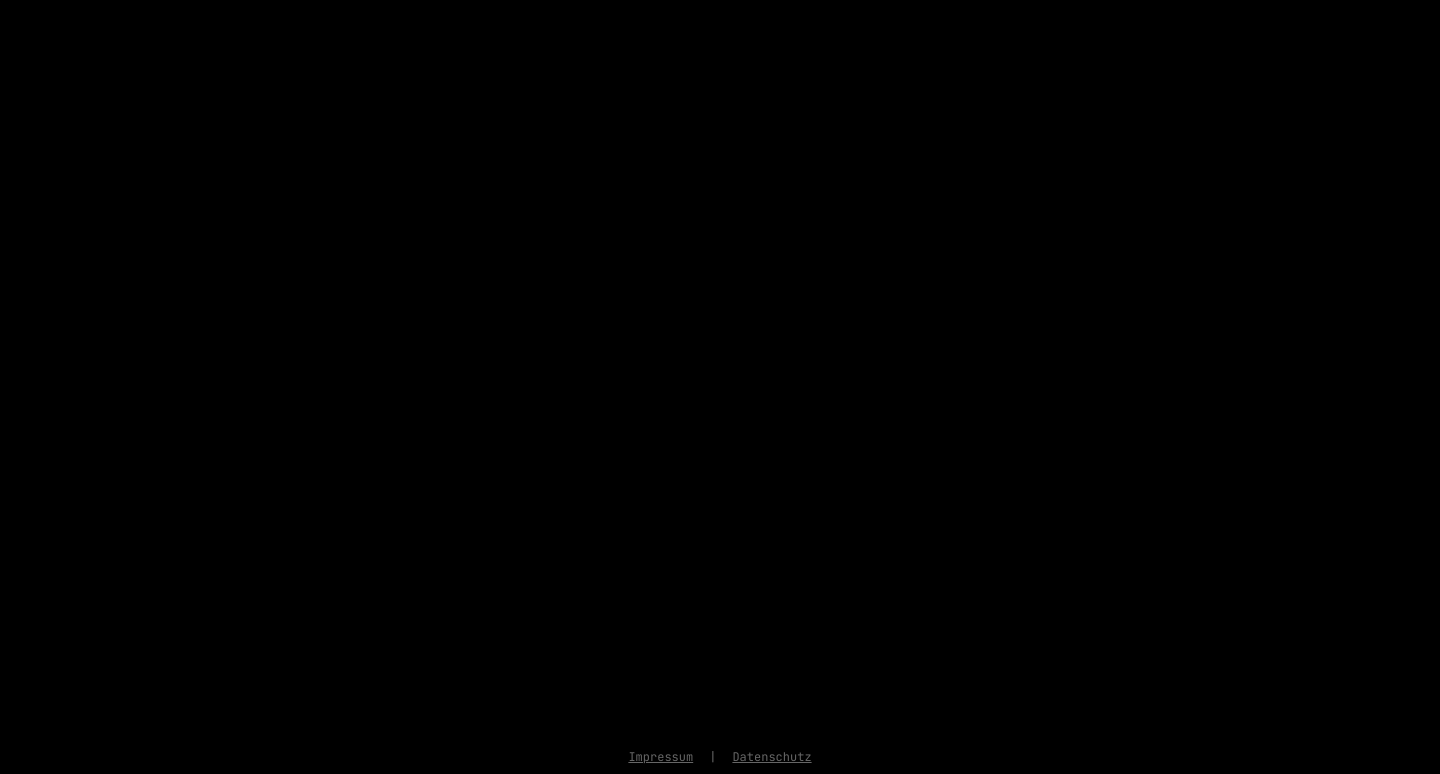
Test: App — central back-navigation wiring › 5. „Weiter spielen" reappears on the menu after leaving a run
Press Enter
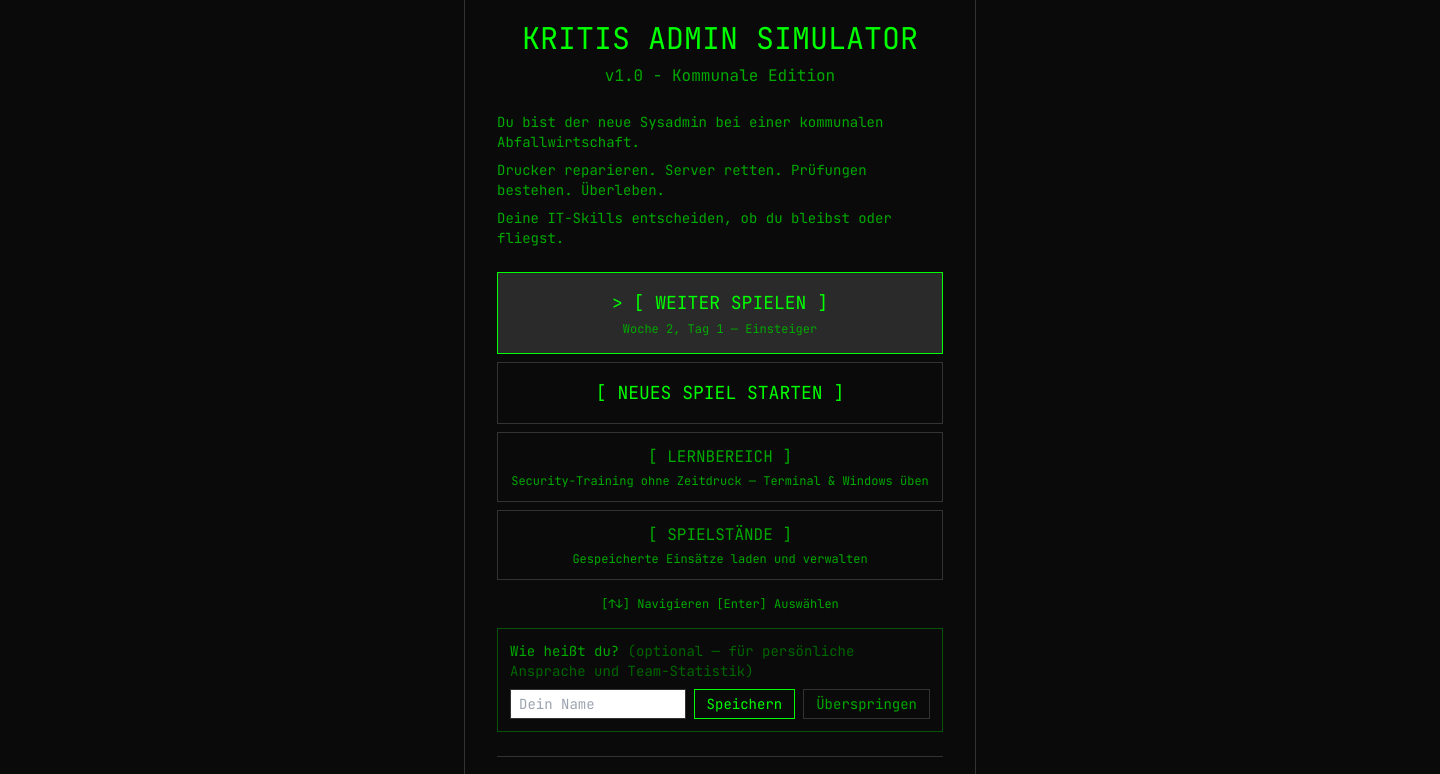
Click the button "> [ WEITER SPIELEN ] Woche 2, Tag 1 — Einsteiger" at (720, 313), box [497,272,943,354]
(page scrolled)
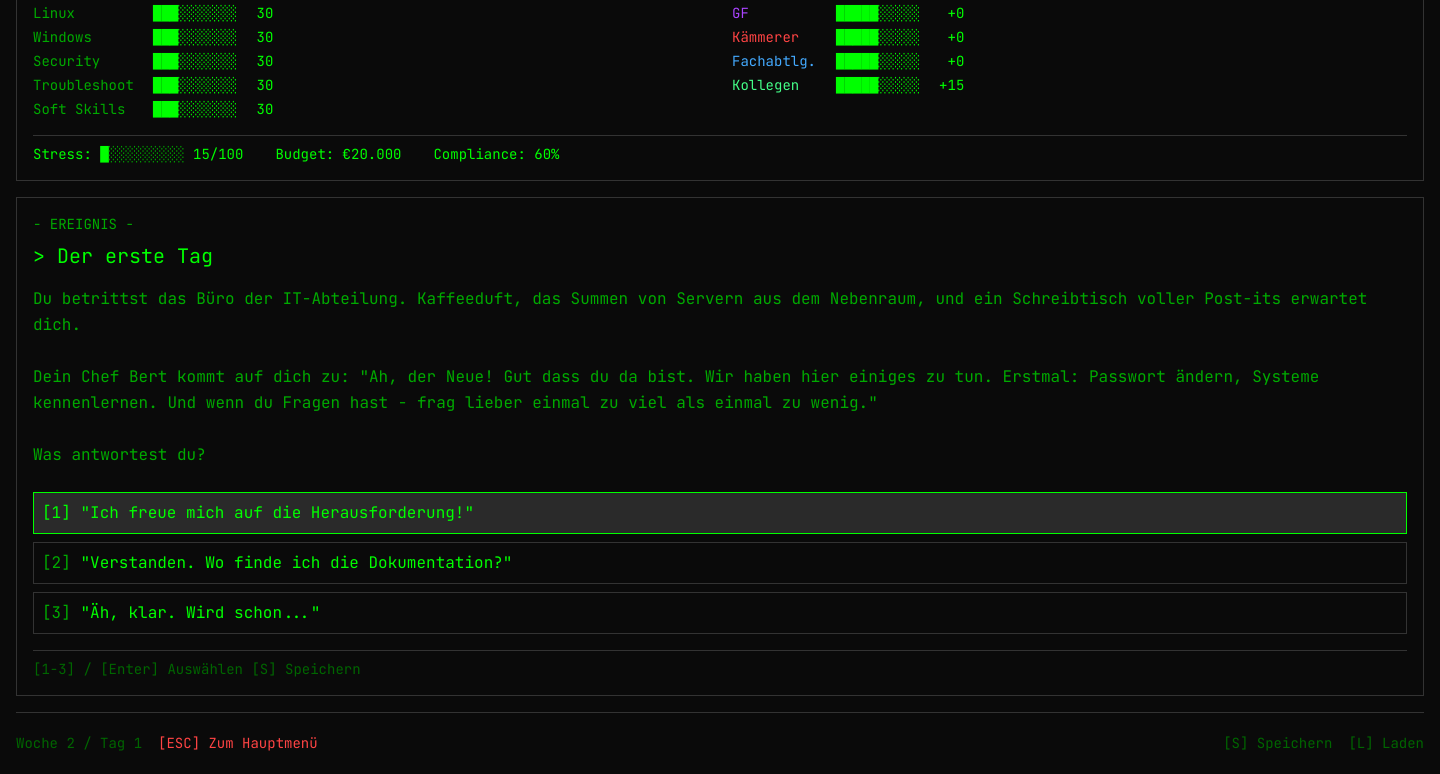
Now the button "[ESC] Zum Hauptmenü" is shown, box [158,721,318,765]
Press Escape
(page scrolled)
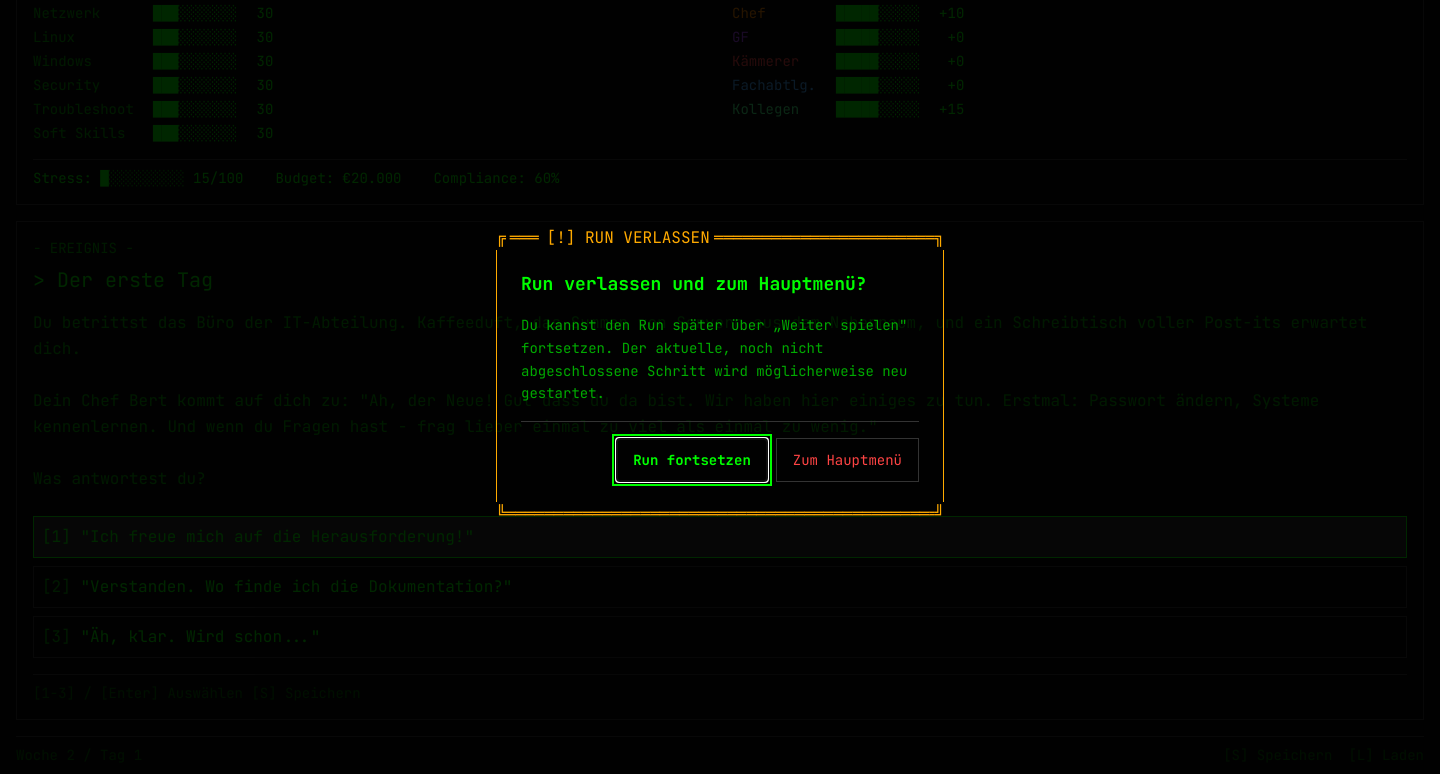
Now the heading "Run verlassen und zum Hauptmenü?" is shown, box [521,270,919,298]
Click the button "Zum Hauptmenü" at (847, 460), box [776,438,919,482]
(page scrolled)
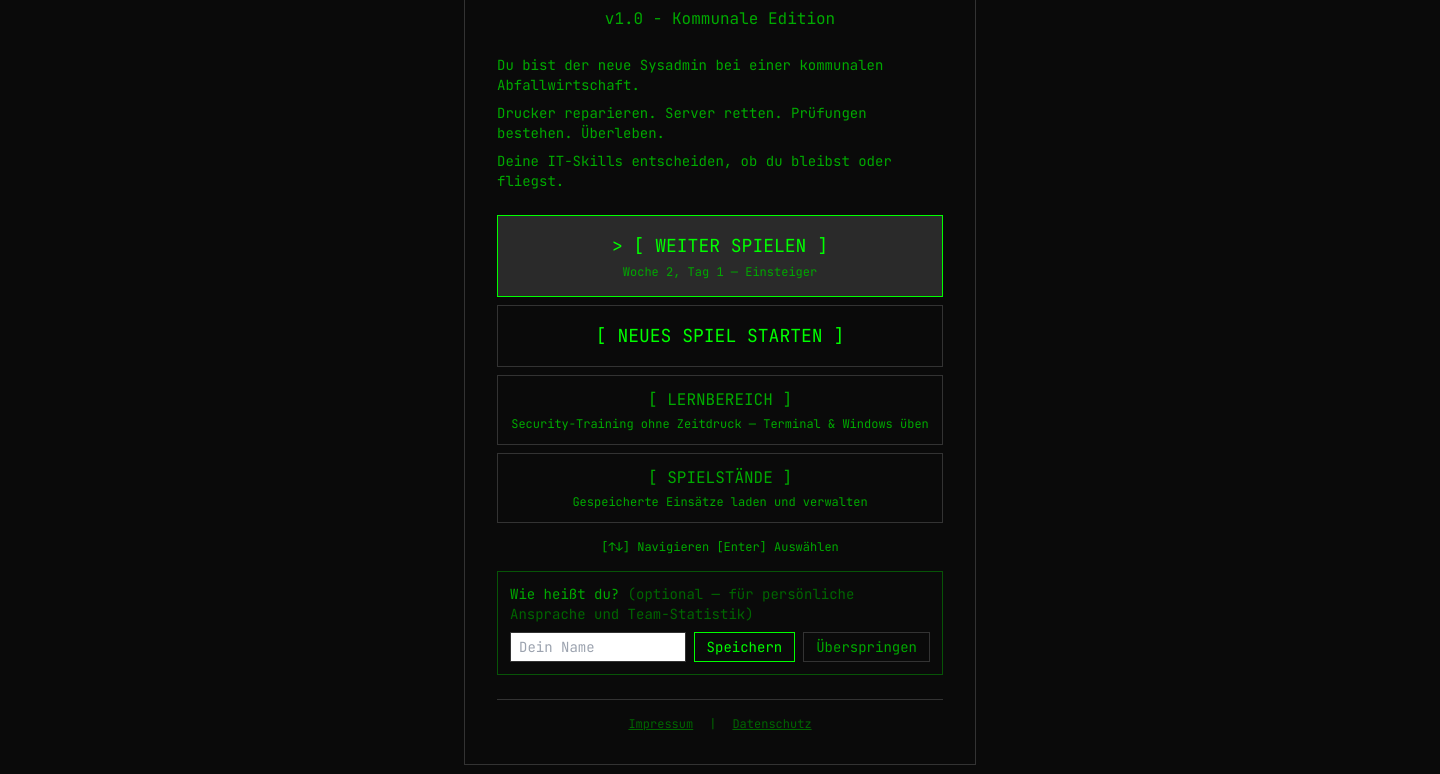
Now the button "> [ WEITER SPIELEN ] Woche 2, Tag 1 — Einsteiger" is shown, box [497,215,943,297]
